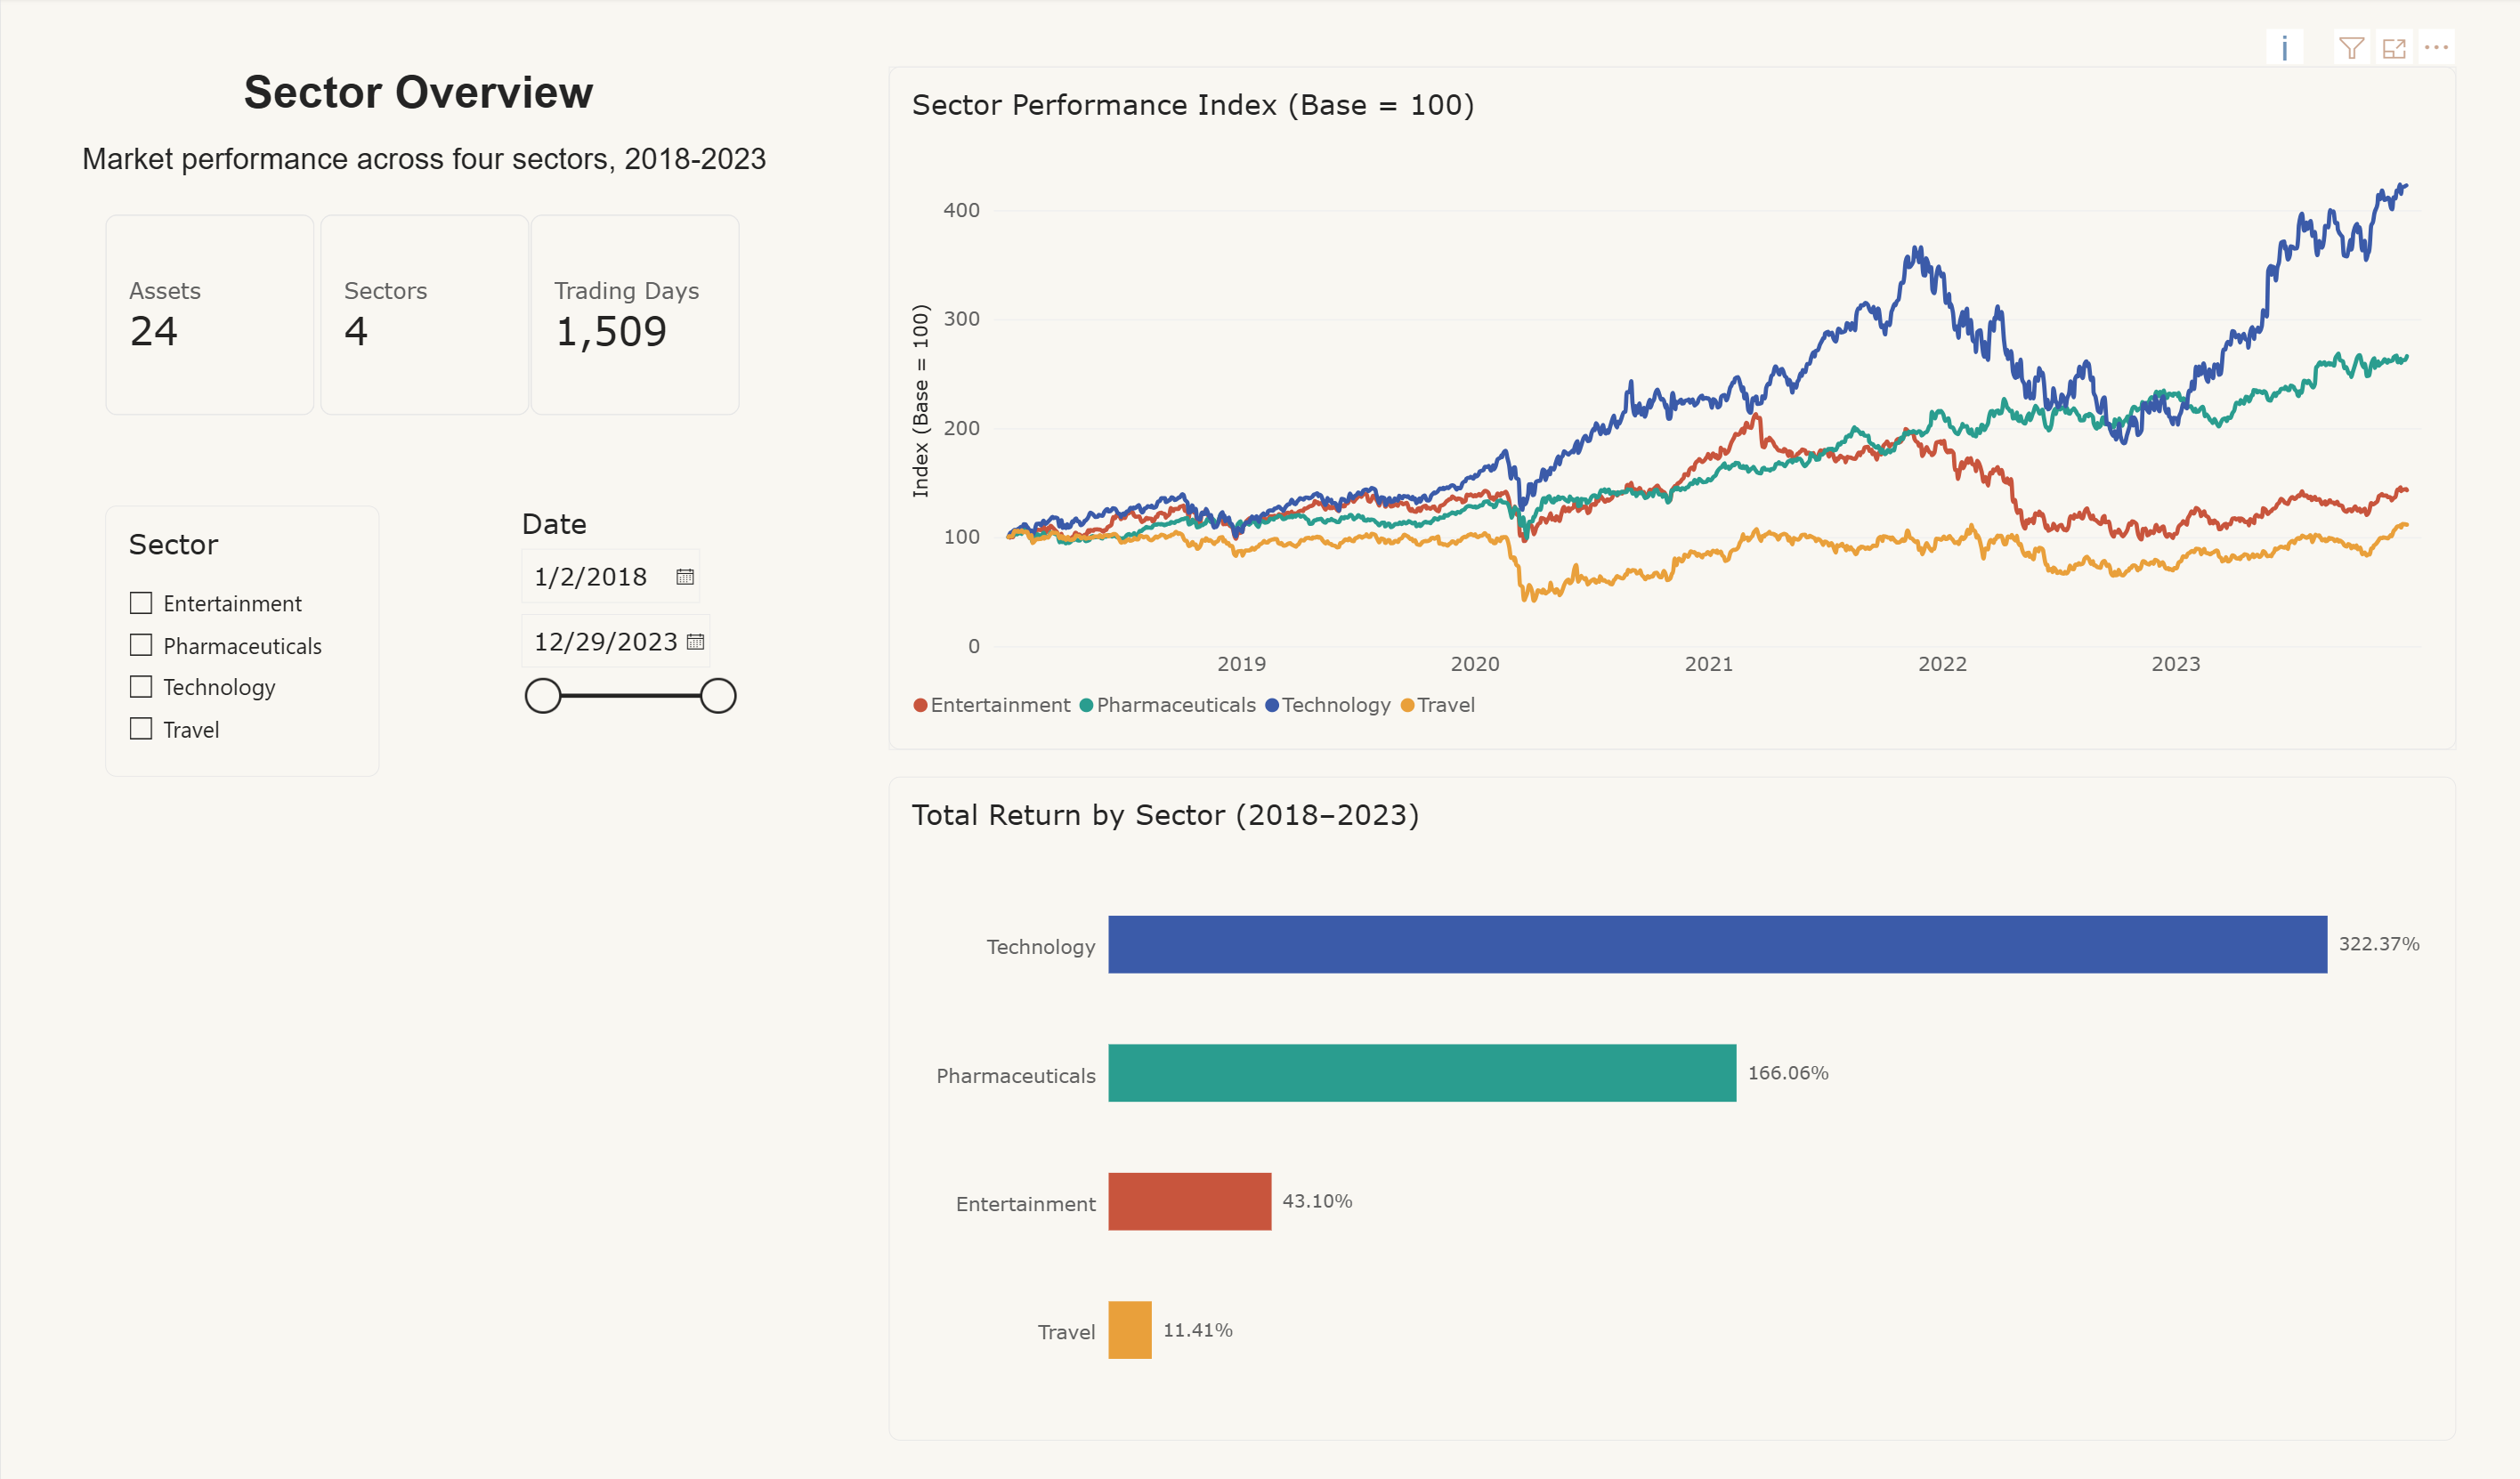

The page's visual inventory and layout, read from the dashboard file:
{"tool":"powerbi","page":{"name":"Sector Overview","canvas":[1920,1080],"ordinal":0},"visuals":[{"type":"cardVisual","fields":{"Data":["CountNonNull(dim_assets.AssetID)"]},"box":[74.8,156.3,150.6,144.6],"z":0},{"type":"cardVisual","fields":{"Data":["Count(dim_assets.Sector)"]},"box":[228.9,156.3,150.6,144.6],"z":1000},{"type":"cardVisual","fields":{"Data":["dim_date.Trading Days Card"]},"box":[379.6,156.3,150.6,144.6],"z":2000},{"type":"lineChart","title":"Sector Performance Index (Base = 100)","fields":{"Category":["dim_date.Date"],"Series":["dim_assets.Sector"],"Y":["fact_prices.Base 100 Performance"]},"box":[636.1,50.7,1123.6,489.7],"z":2001},{"type":"listSlicer","fields":{"Values":["dim_assets.Sector"]},"box":[74.8,365.1,196.5,194.3],"z":2002},{"type":"slicer","fields":{"Values":["dim_date.Date"]},"box":[365.1,365.1,165.1,194],"z":2003},{"type":"clusteredBarChart","title":"Total Return by Sector (2018–2023)","fields":{"Category":["dim_assets.Sector"],"Y":["dim_assets.Total Return %"]},"box":[636.1,559.5,1123.6,476.2],"z":2004},{"type":"textbox","box":[39.1,50.2,529.2,106.1],"z":2005}]}

Visuals, with their boxes on the page's 1920x1080 design canvas (x1, y1, x2, y2). These are canvas units, not pixel positions in the 2520x1479 screenshot, which may show the page scaled, cropped or inside an application window:
cardVisual - CountNonNull(dim_assets.AssetID): region(75, 156, 225, 301)
cardVisual - Count(dim_assets.Sector): region(229, 156, 380, 301)
cardVisual - dim_date.Trading Days Card: region(380, 156, 530, 301)
"Sector Performance Index (Base = 100)" lineChart: region(636, 51, 1760, 540)
listSlicer - dim_assets.Sector: region(75, 365, 271, 559)
slicer - dim_date.Date: region(365, 365, 530, 559)
"Total Return by Sector (2018–2023)" clusteredBarChart: region(636, 560, 1760, 1036)
textbox: region(39, 50, 568, 156)
